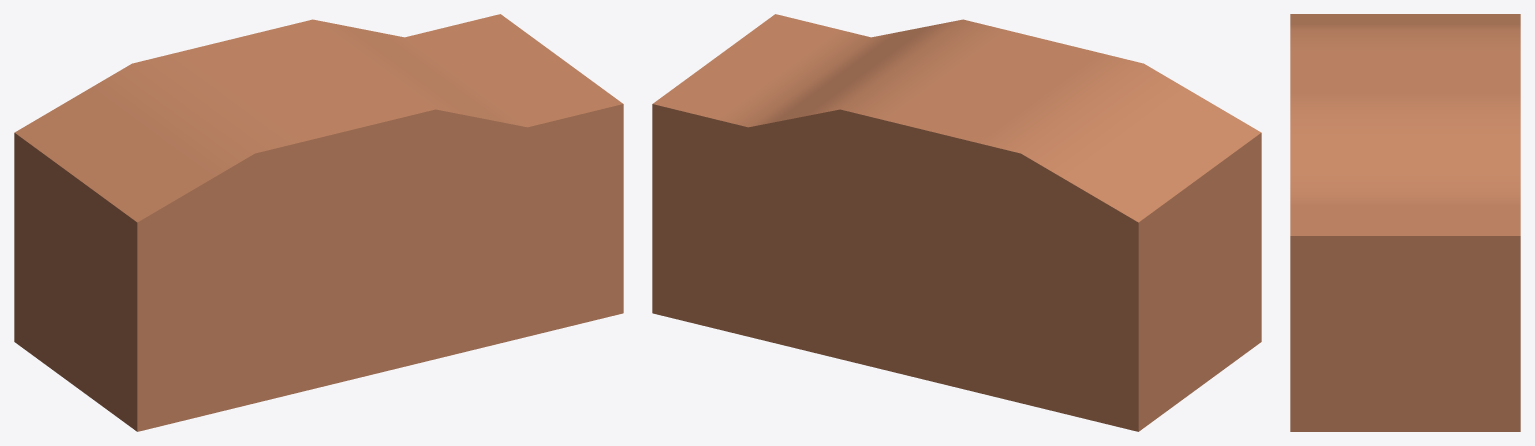
3 renders of one model, left to right at view 1: azimuth 30°, elevation 25°; view 2: azimuth 150°, elevation 25°; view 3: azimuth 270°, elevation 25°, orthographic. The views are drawn at different scales.
Visible parts, largest first — view 1: pCube2; view 2: pCube2; view 3: pCube2.
Part boxes in pixels (bbox=[...]): pCube2: bbox=[14, 14, 623, 431]; pCube2: bbox=[652, 14, 1261, 431]; pCube2: bbox=[1290, 14, 1520, 431].
Bounding box in the file's own units: 3.75 × 1.84 × 1.64.
